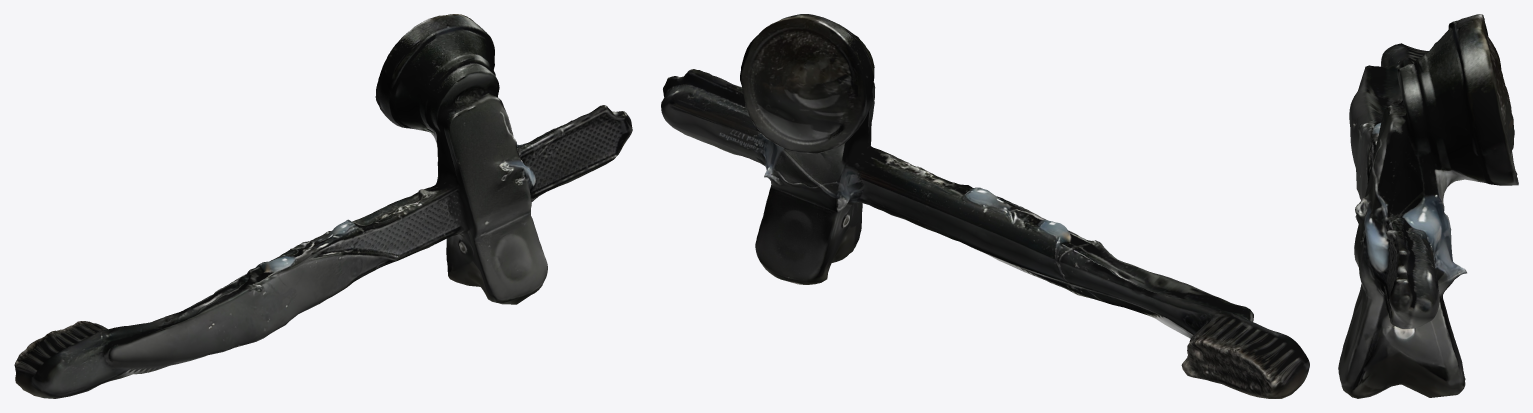
The picture shows the model from 3 angles, left to right: view 1: azimuth 30°, elevation 25°; view 2: azimuth 150°, elevation 25°; view 3: azimuth 270°, elevation 25°; orthographic projection. The views are drawn at different scales.
Parts seen in each view (by area): view 1: P10; view 2: P10; view 3: P10.
Part boxes in pixels (x1,y1,x2,y2): P10: (14,14,632,398); P10: (661,14,1309,398); P10: (1338,14,1518,398).
Size of the model in its own units: 0.7758 by 0.3281 by 0.1501.
Materials: 1 (1 with a texture image).
